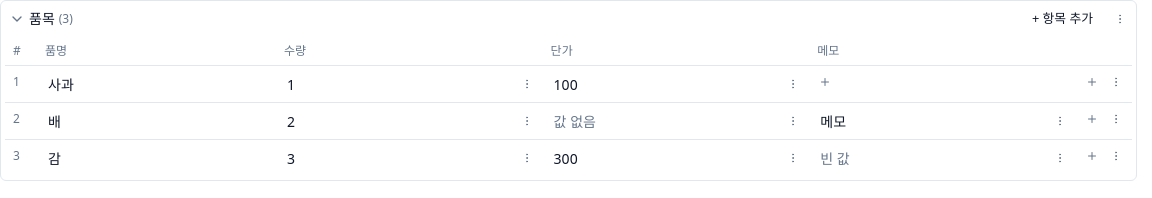
배열 표 메뉴 › 칸 메뉴의 필드 삭제는 그 키를 지우는 편집을 내고 칸이 ＋ 칸이 된다
Click the button with test id "job-review-tree-button-menu": (1060, 121) [1048,109,1072,133]
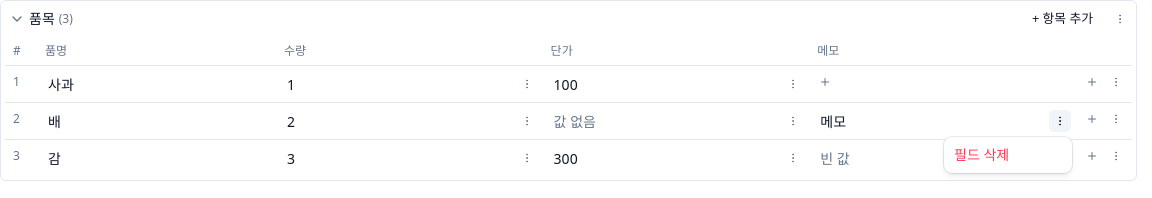
Click the menu item with test id "job-review-tree-menu-remove-field": (982, 154) [954,145,1009,164]
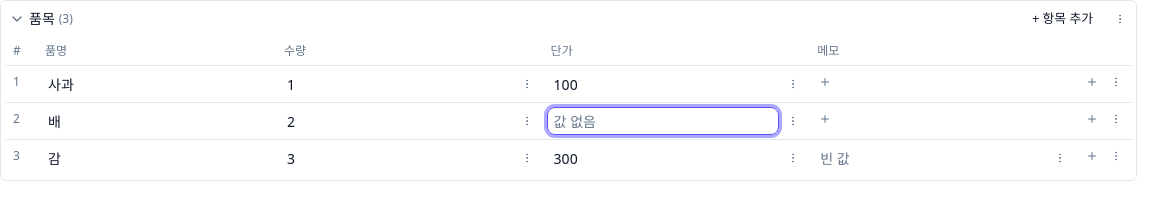
Check: the button with test id "job-review-tree-table-button-add-cell" is shown, box [813,107,837,131]
